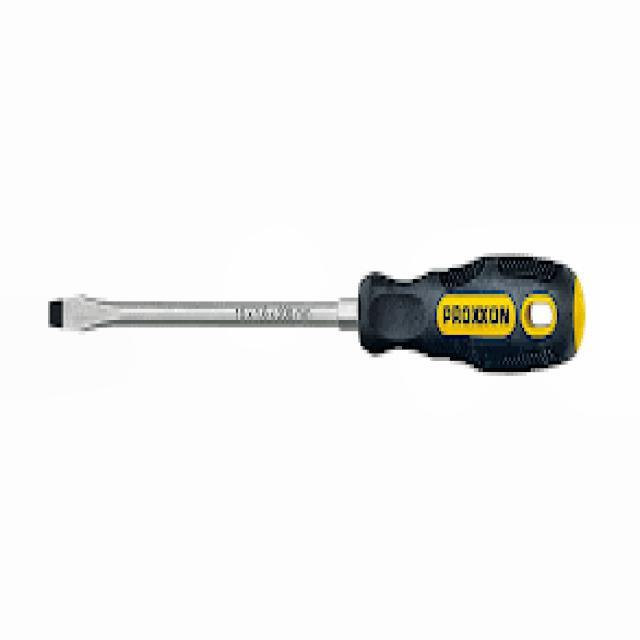screwdriver: (48, 249, 584, 372)
